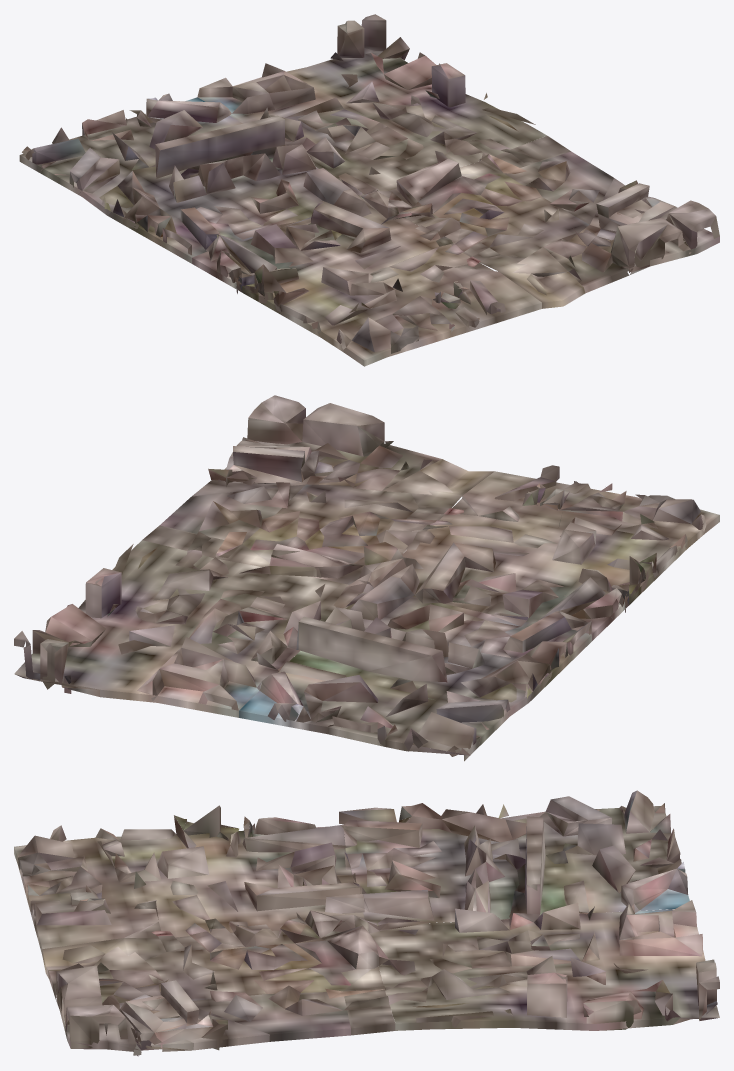
3 views of the same model, one above another, from view 1: azimuth 30°, elevation 25°; view 2: azimuth 150°, elevation 25°; view 3: azimuth 270°, elevation 25° (orthographic). The views are drawn at different scales.
Visible parts, largest first — view 1: Mesh_0; view 2: Mesh_0; view 3: Mesh_0.
Boxes of the visible parts, bbox=[...] form: Mesh_0: bbox=[19, 14, 719, 366]; Mesh_0: bbox=[14, 395, 719, 761]; Mesh_0: bbox=[14, 790, 719, 1056].
Size of the model in its own units: 540 by 59.29 by 659.
Materials: 2 (2 with a texture image).
